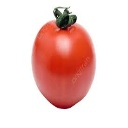tomato: (32, 20, 97, 108)
